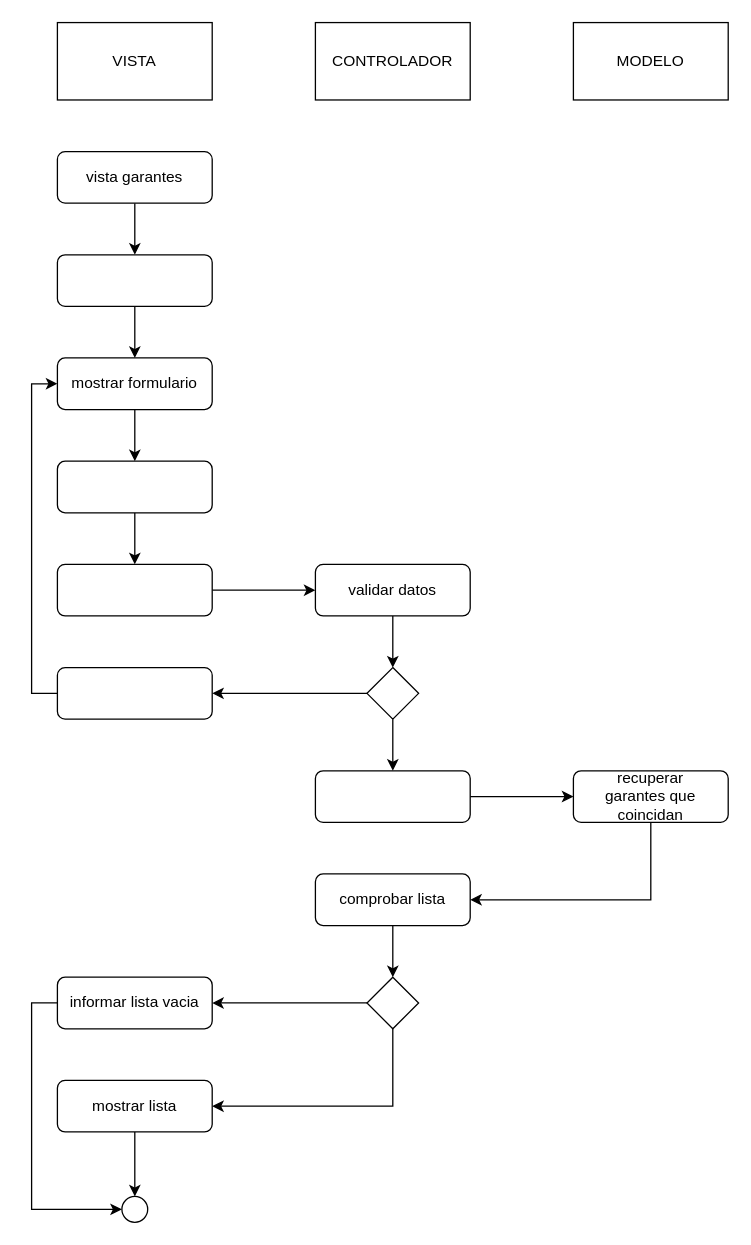
Some shapes in this 751 by 1245 pixel diagram are drawn without their labels. Each missing label, with the centre of its shape:
"completar formulario" belongs at [134,486].
"confirmar formulario" belongs at [134,589].
"informar error" belongs at [134,692].
"listar garantes por apellido y nombre" belongs at [134,279].
"recuperar lista garantes" belongs at [392,795].
